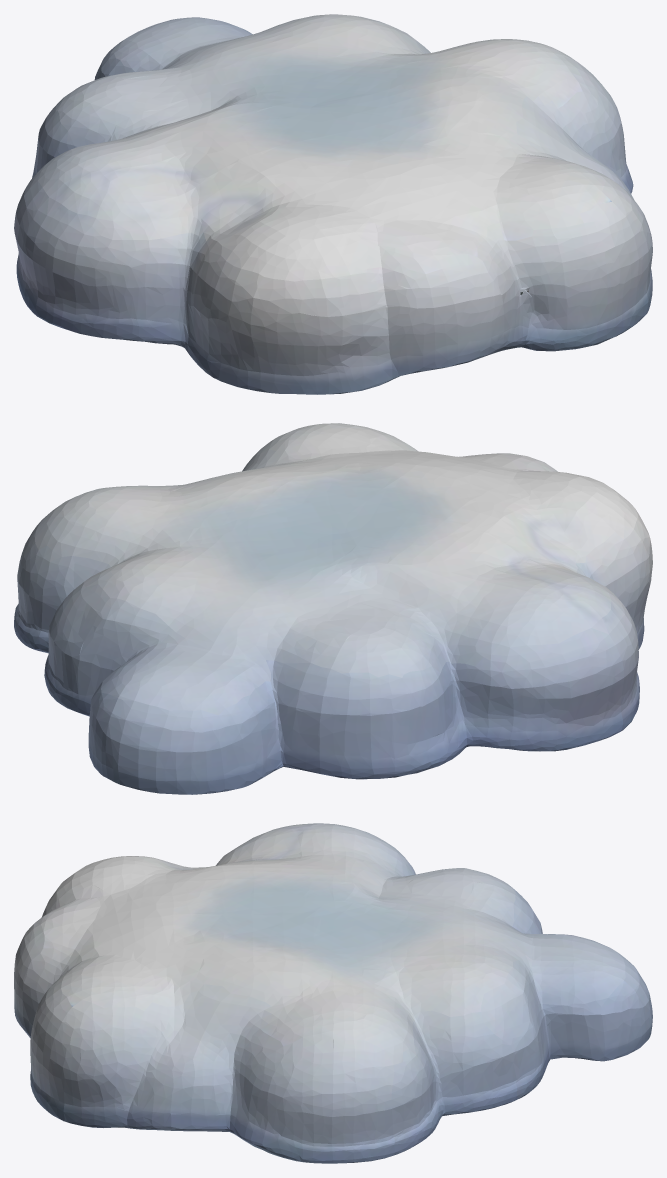
File: cloud1.glb
3 renders of one model, top to bottom at view 1: azimuth 30°, elevation 25°; view 2: azimuth 150°, elevation 25°; view 3: azimuth 270°, elevation 25°, orthographic. The views are drawn at different scales.
Parts seen in each view (by area): view 1: world; view 2: world; view 3: world.
Boxes of the visible parts, x1=… form: world: x1=14, y1=14, x2=652, y2=394; world: x1=14, y1=423, x2=652, y2=794; world: x1=14, y1=823, x2=652, y2=1163.
Bounding box in the file's own units: 0.935 × 0.2331 × 0.9995.
1 material, 1 textured.
